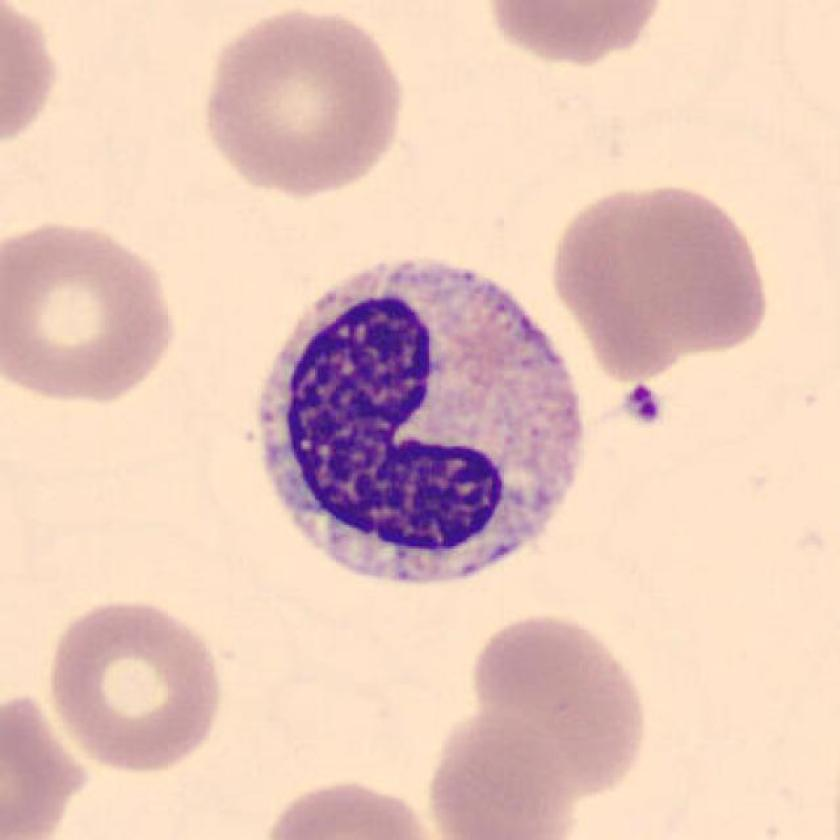neutrophil: (261, 258, 581, 585)
